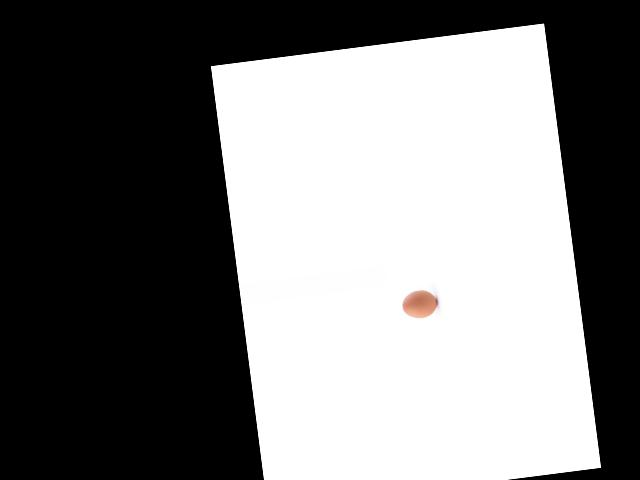egg: (400, 287, 438, 319)
